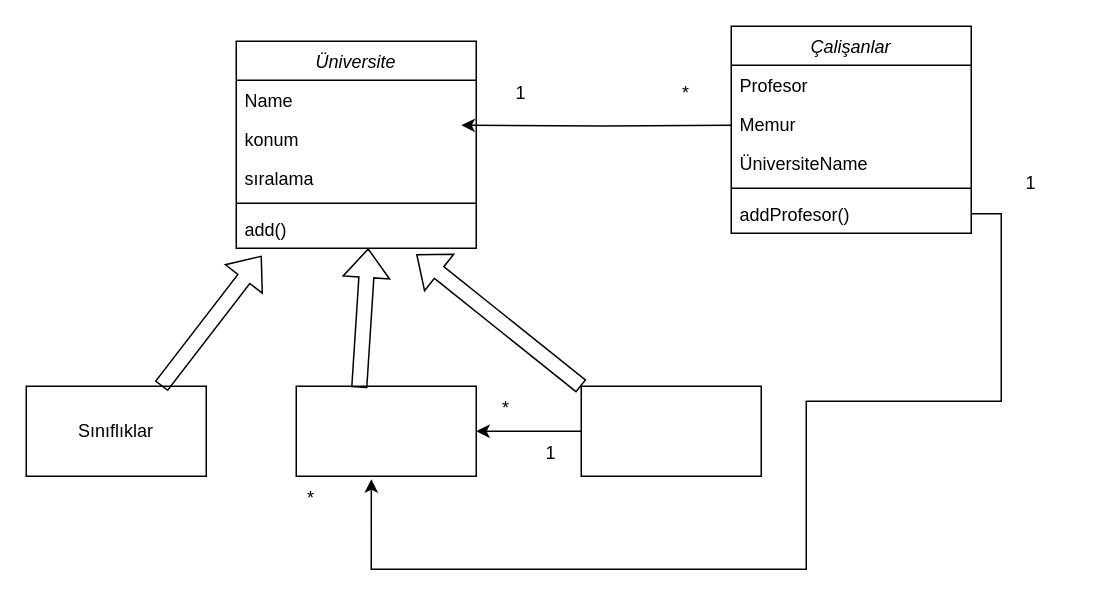
This 1103x608 diagram has some shape labels left out. The shapes that lost their labels are listed below. From the top down, each one's centre as x and y in pixels, then its label:
At point 385,430: "Çalişma Ofisleri".
At point 670,430: "Departmanlar".
